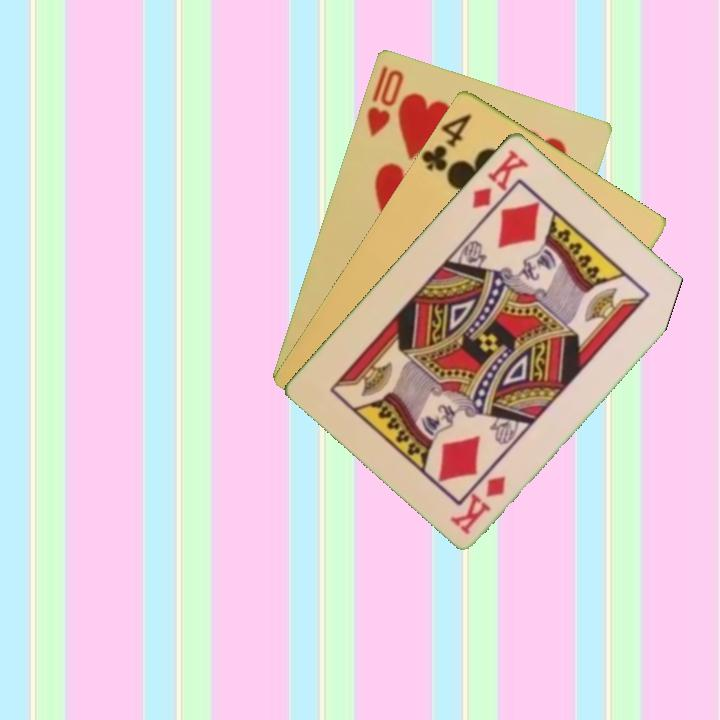10h: (362, 61, 407, 139)
4c: (419, 109, 475, 174)
Kd: (468, 145, 531, 212), (446, 471, 509, 537)
